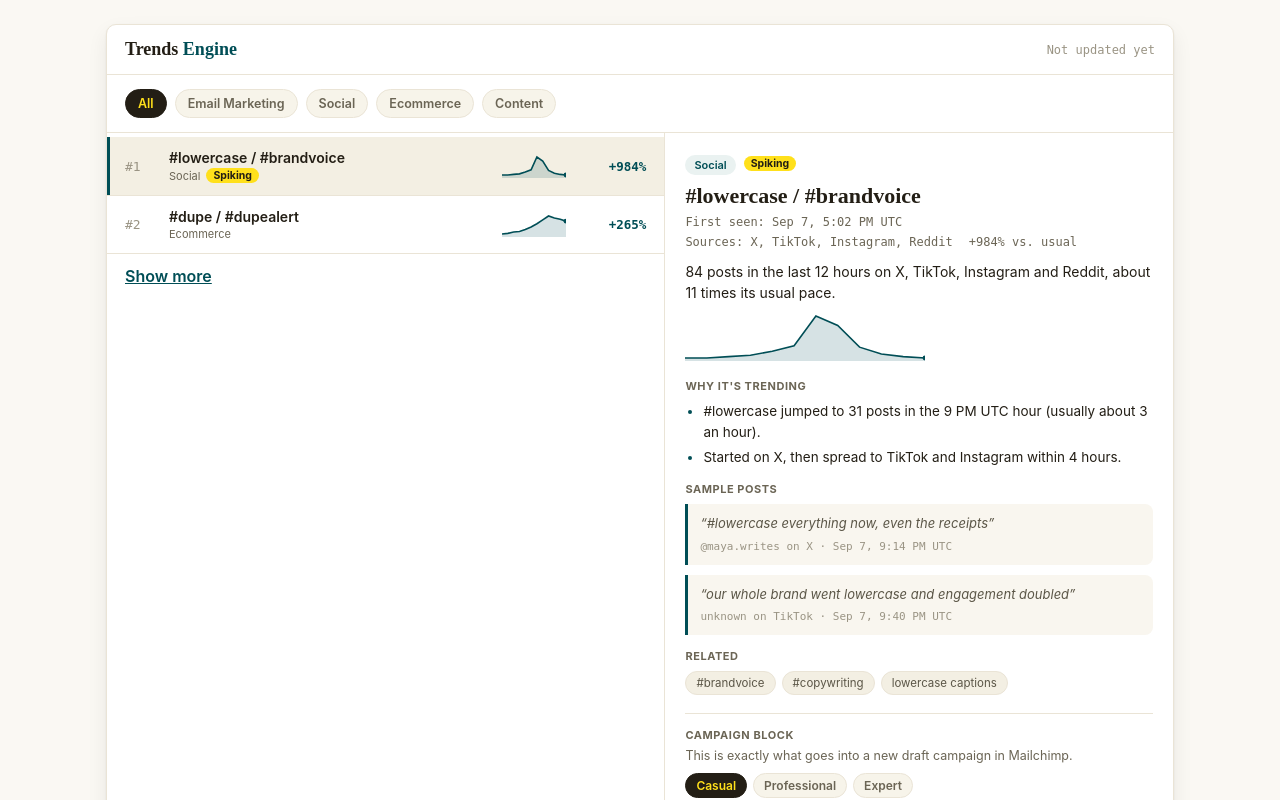
Test: show more appends the next page
Step 1. Click the button "Show more" → (168, 276), box [125, 266, 212, 286]
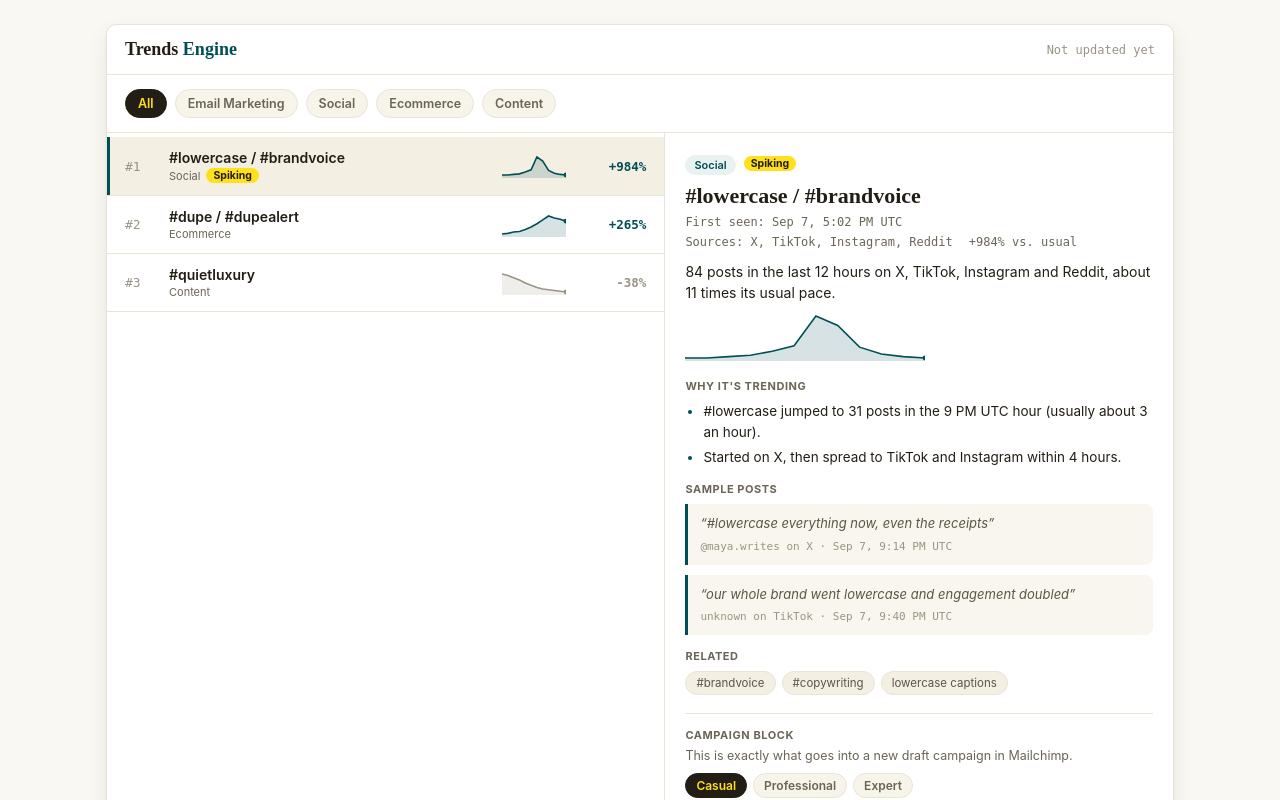
expect the button "Show more" is gone: met
